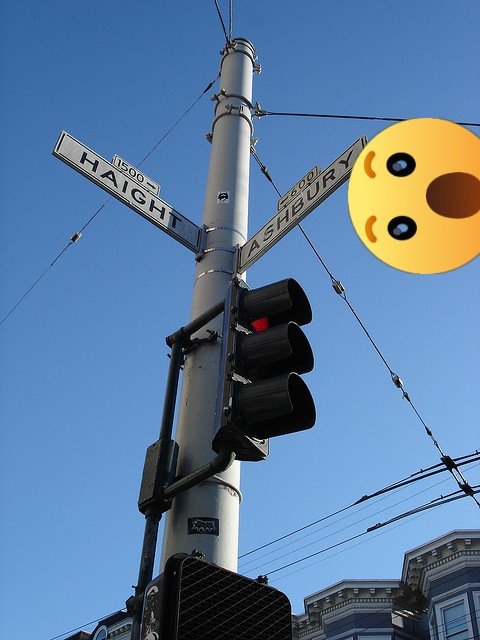wow: (348, 118, 480, 274)
